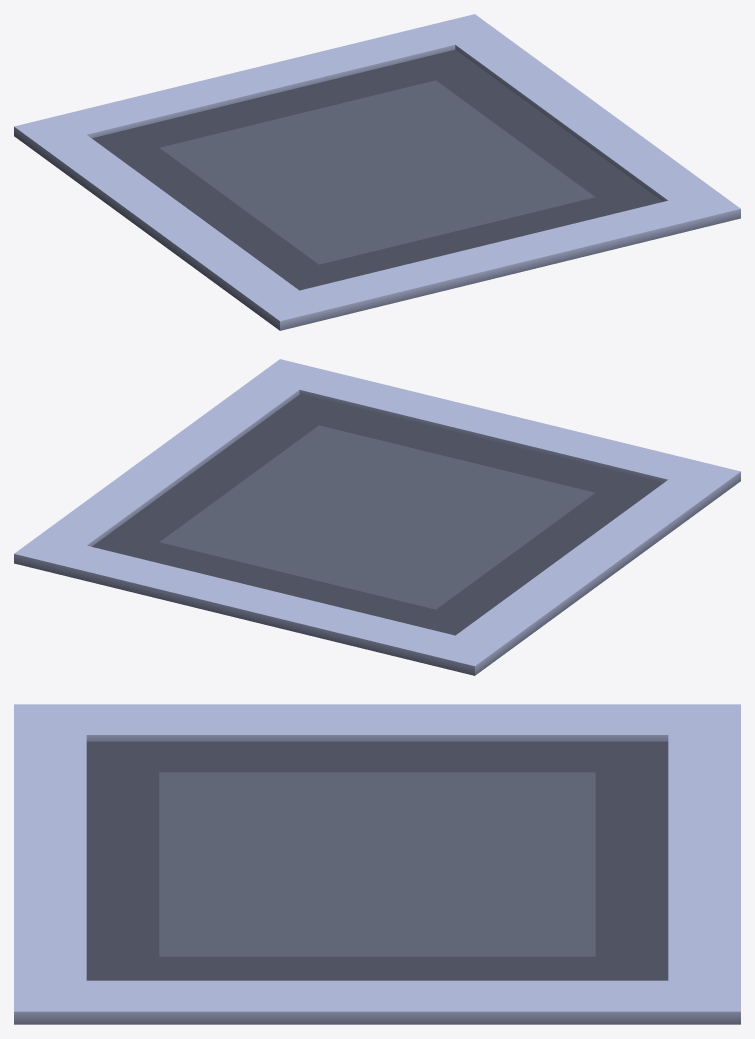
The model's file is road-square.glb.
3 renders of one model, top to bottom at view 1: azimuth 30°, elevation 25°; view 2: azimuth 150°, elevation 25°; view 3: azimuth 270°, elevation 25°, orthographic. The views are drawn at different scales.
Visible parts, largest first — view 1: road-square; view 2: road-square; view 3: road-square.
Boxes of the visible parts, x1,y1,x2,y2 form: road-square: (14, 14, 740, 330); road-square: (14, 359, 740, 675); road-square: (14, 704, 740, 1024).
Bounding box in the file's own units: 1 × 0.02 × 1.
Materials: 1 (1 with a texture image).
